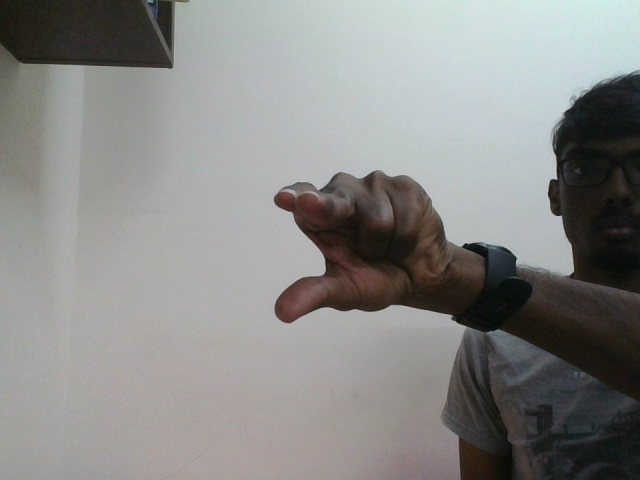No: (275, 172, 373, 323)
